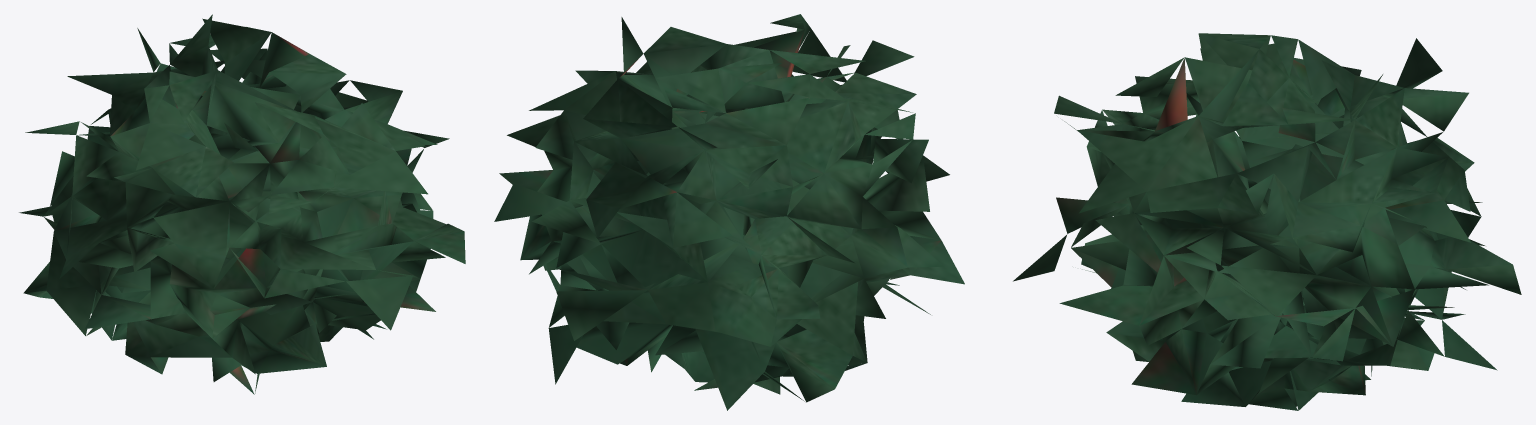
File: bush_berry.glb
3 renders of one model, left to right at view 1: azimuth 30°, elevation 25°; view 2: azimuth 150°, elevation 25°; view 3: azimuth 270°, elevation 25°, orthographic. The views are drawn at different scales.
Parts seen in each view (by area): view 1: plant; view 2: plant; view 3: plant.
Boxes of the visible parts, x1,y1,x2,y2 form: plant: [19, 14, 465, 394]; plant: [494, 14, 964, 410]; plant: [1013, 33, 1521, 410].
Size of the model in its own units: 1 by 0.7341 by 0.9916.
Materials: 1 (1 with a texture image).
